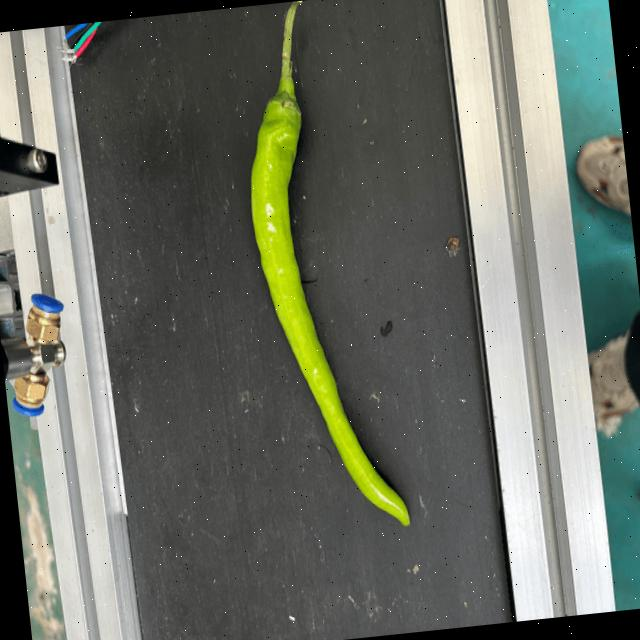chili: (248, 84, 411, 530)
